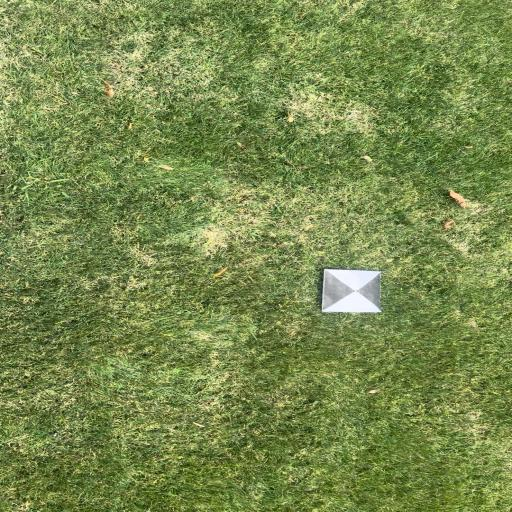target: (322, 270, 382, 311)
